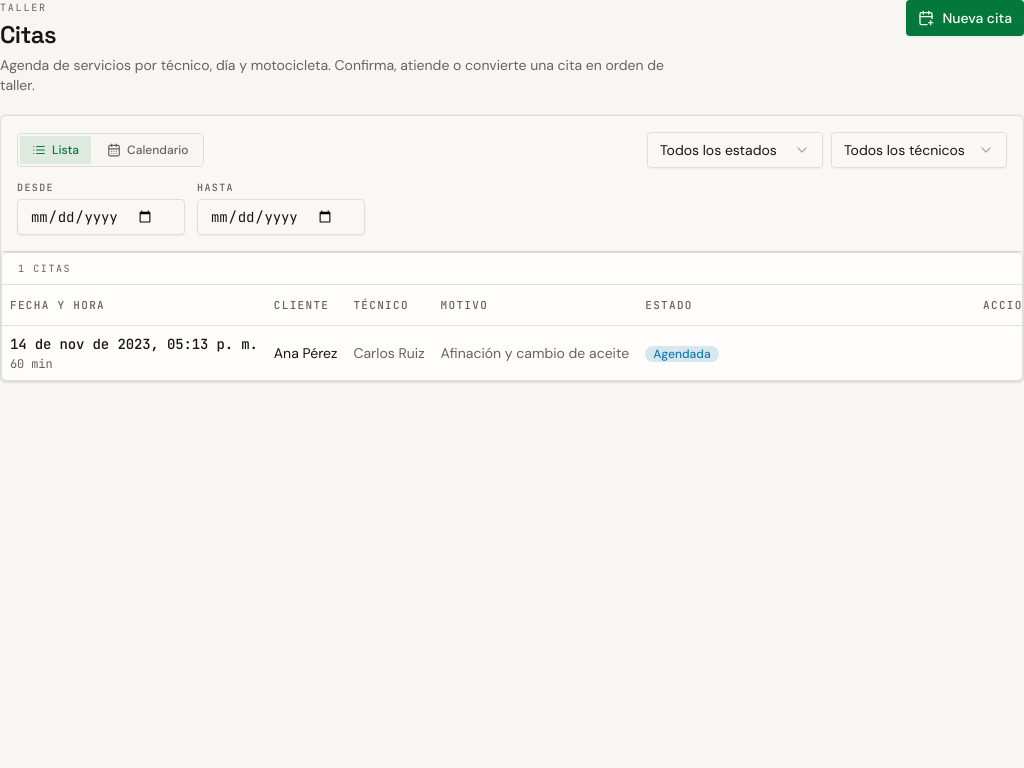
AppointmentsPage › switches to the calendar view and renders the month grid
Expected: the element with test id "appointments.table" is shown, [1,252,1023,380]
Click the button with test id "appointments.view.calendar_tab".
click(148, 150)  # box [95,136,201,164]
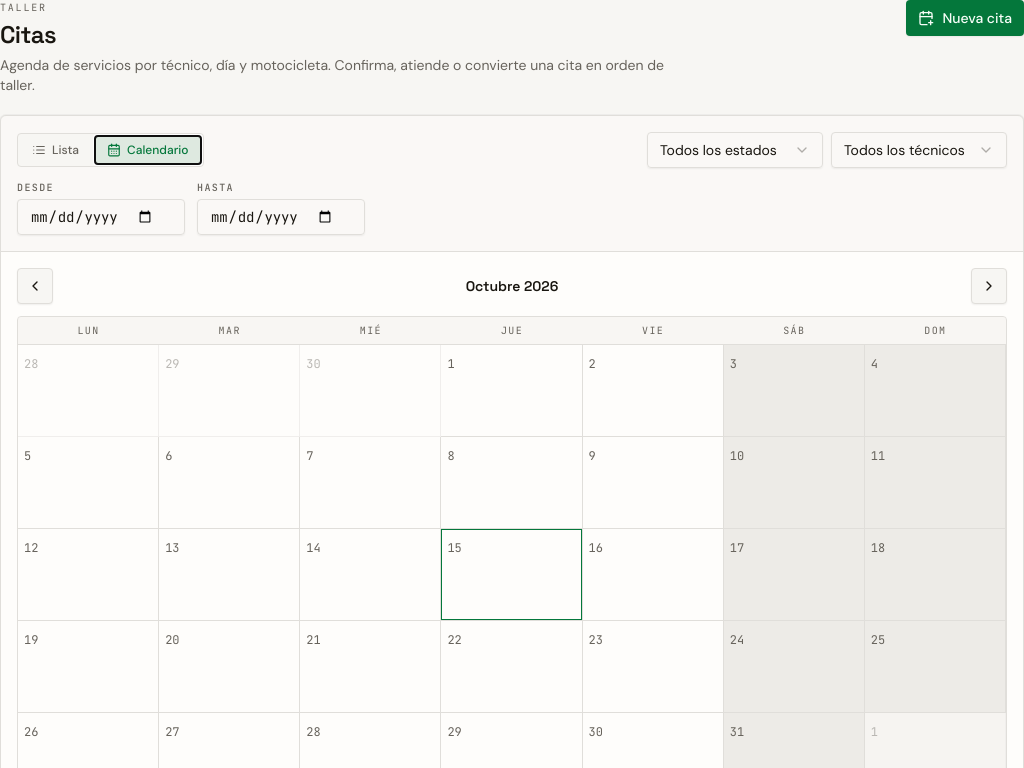
Now the text "Lun" is shown, box [78,324,100,337]
Now the text "Dom" is shown, box [924,324,946,337]
